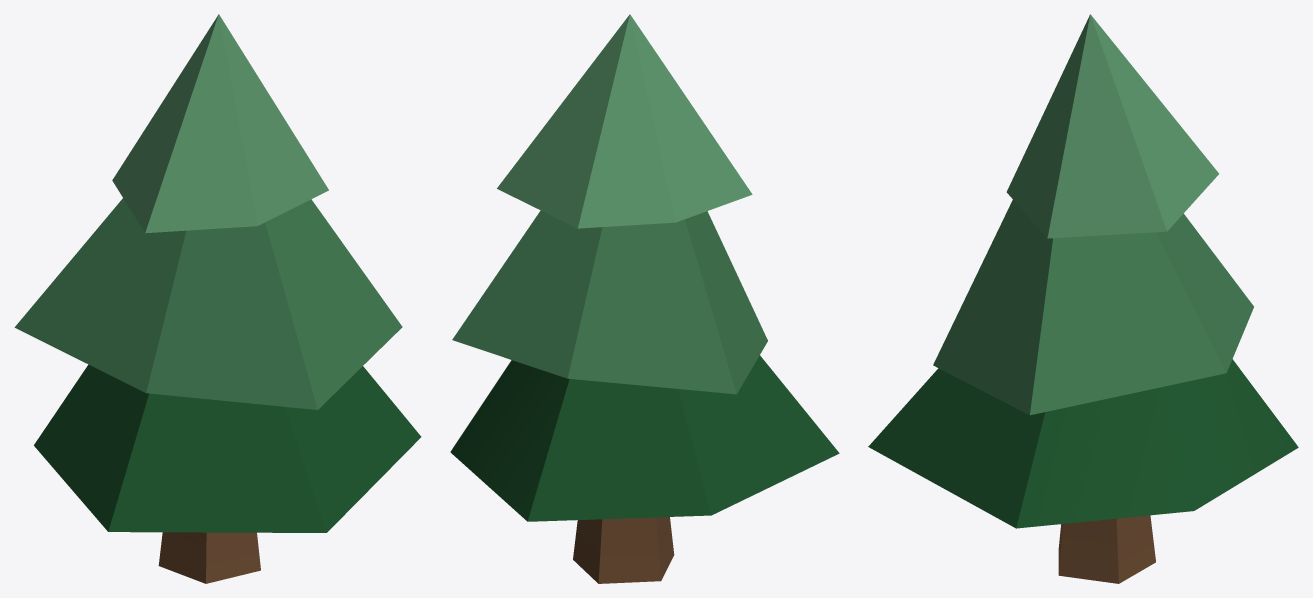
The model's file is Tree.fbx.
3 views of the same model, side by side, from view 1: azimuth 30°, elevation 25°; view 2: azimuth 150°, elevation 25°; view 3: azimuth 270°, elevation 25° (orthographic).
Parts seen in each view (by area): view 1: Tree; view 2: Tree; view 3: Tree.
Part boxes in pixels (x1,y1,x2,y2): Tree: [14, 14, 421, 583]; Tree: [450, 14, 839, 583]; Tree: [868, 14, 1298, 583].
Bounding box in the file's own units: 259 × 418 × 297.
